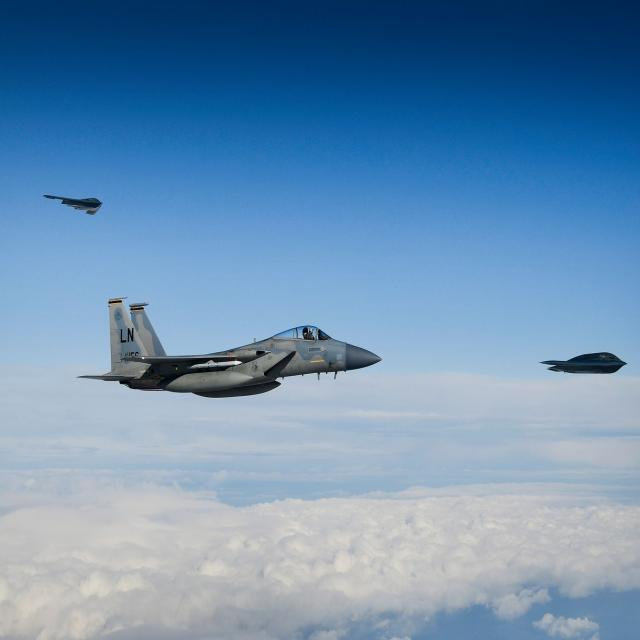MIL_Plane: (75, 297, 382, 398), (537, 358, 628, 368), (44, 73, 102, 80)
